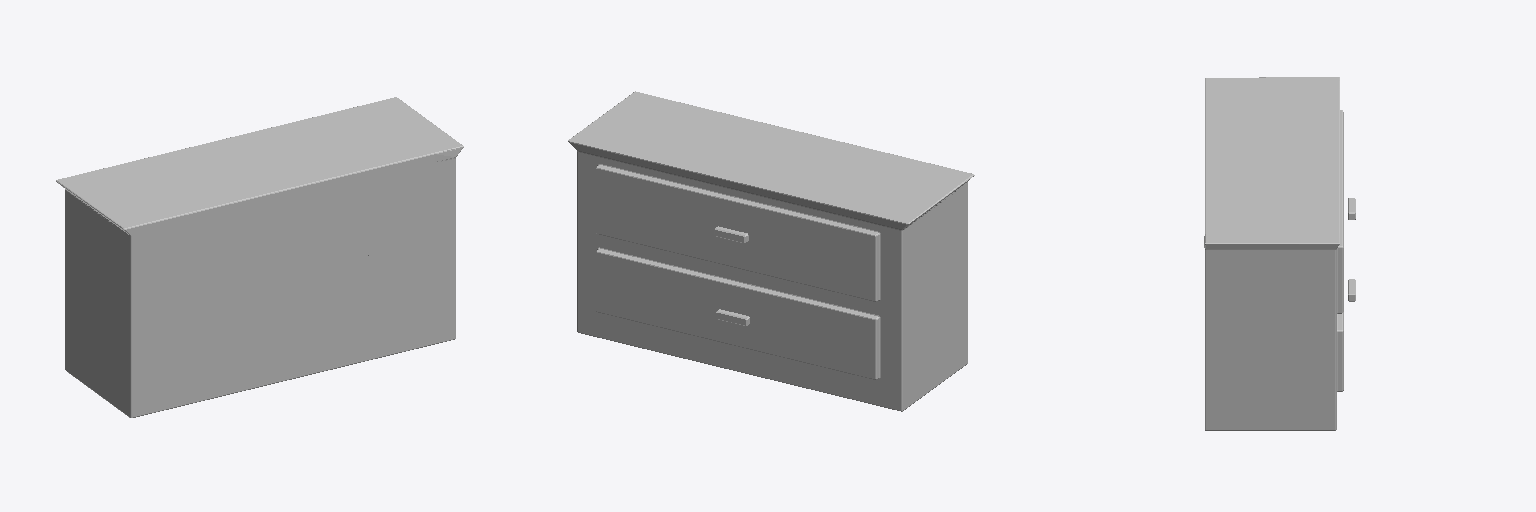
Rendered from meja laci besar lt 2.obj.
The picture shows the model from 3 angles: view 1: azimuth 30°, elevation 25°; view 2: azimuth 150°, elevation 25°; view 3: azimuth 270°, elevation 25°; orthographic projection.
Visible parts, largest first — view 1: pCube28; view 2: pCube28; view 3: pCube28.
Boxes of the visible parts, x1=… form: pCube28: x1=56, y1=97, x2=463, y2=417; pCube28: x1=568, y1=91, x2=974, y2=411; pCube28: x1=1204, y1=77, x2=1343, y2=430.
Bounding box in the file's own units: 2.98 × 1.6 × 1.15.